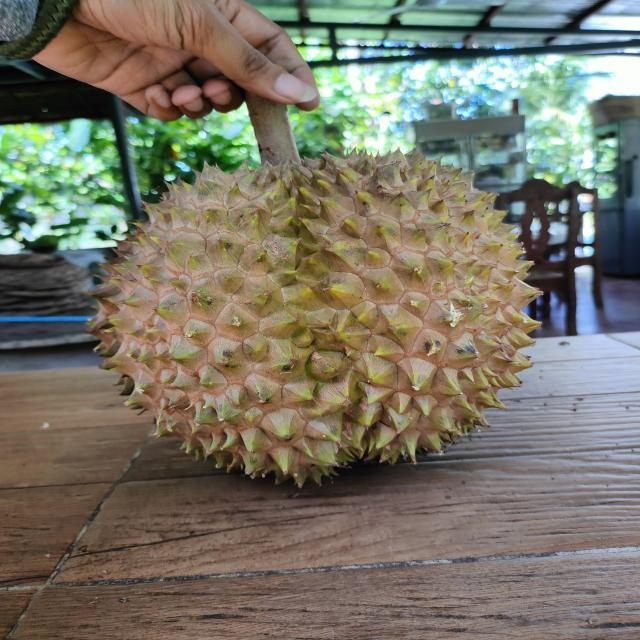mature: (81, 147, 549, 496)
